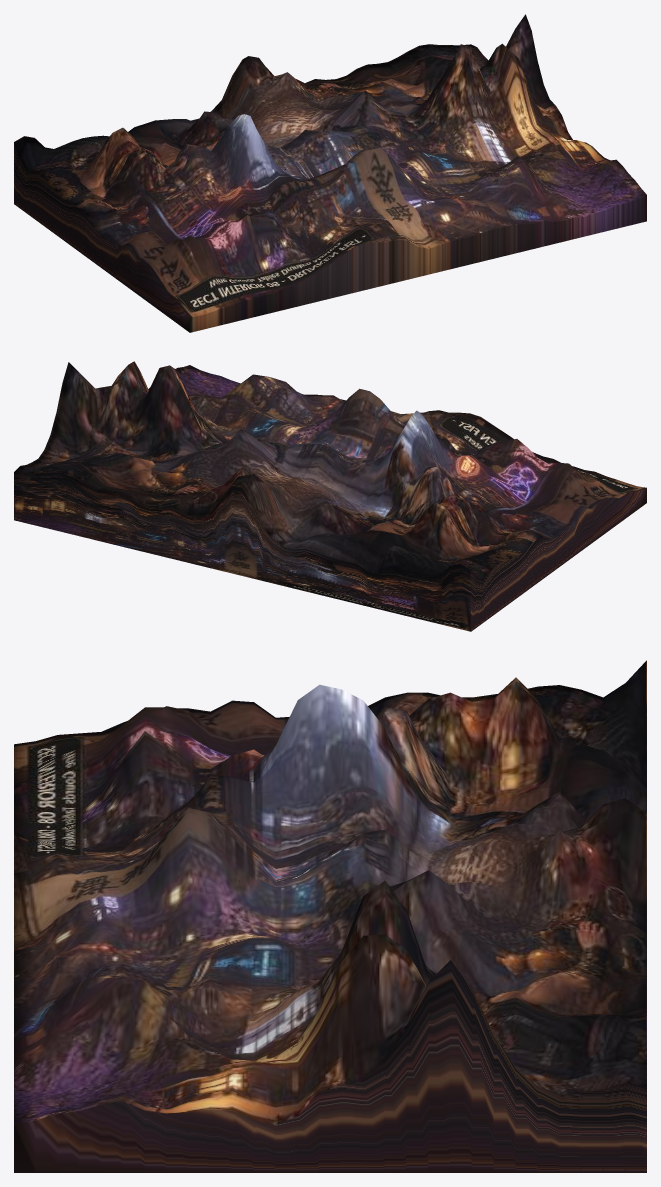
File: SECT_INT_08_Drunken.glb
3 renders of one model, top to bottom at view 1: azimuth 30°, elevation 25°; view 2: azimuth 150°, elevation 25°; view 3: azimuth 270°, elevation 25°, orthographic. The views are drawn at different scales.
Visible parts, largest first — view 1: SECT_INT_08_Drunken; view 2: SECT_INT_08_Drunken; view 3: SECT_INT_08_Drunken.
Boxes of the visible parts, x1,y1,x2,y2 form: SECT_INT_08_Drunken: (14, 14, 646, 332); SECT_INT_08_Drunken: (14, 361, 646, 631); SECT_INT_08_Drunken: (14, 660, 646, 1172).
Size of the model in its own units: 2 by 0.51 by 1.33.
Materials: 1 (1 with a texture image).
